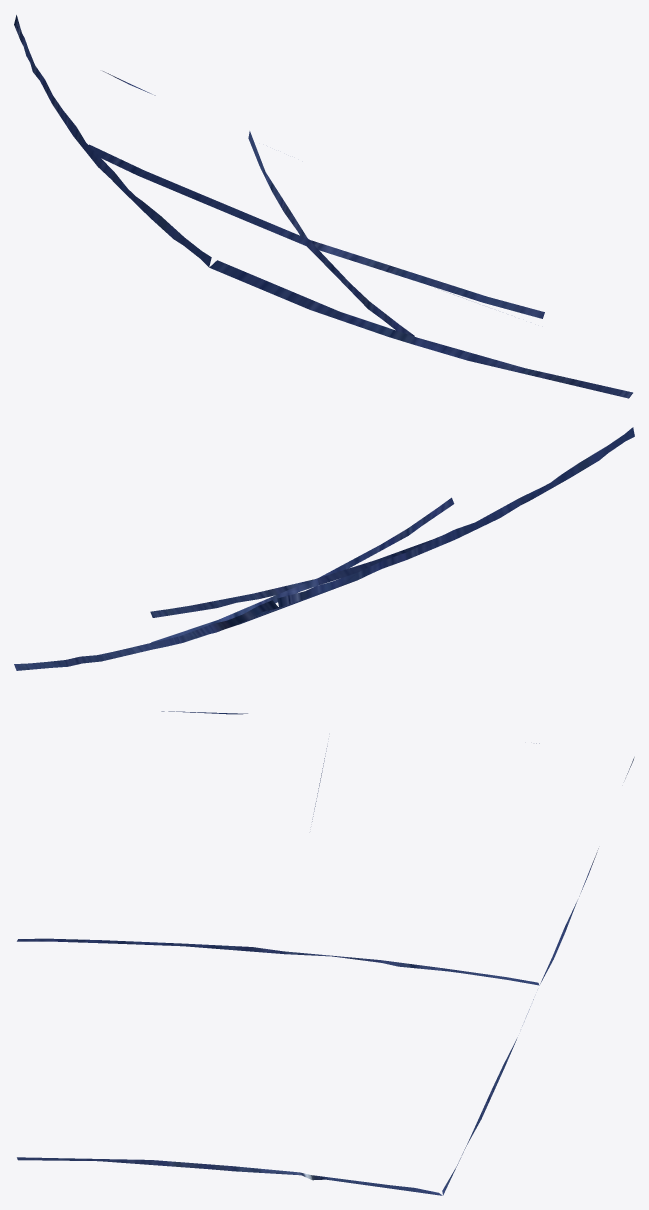
3 renders of one model, top to bottom at view 1: azimuth 30°, elevation 25°; view 2: azimuth 150°, elevation 25°; view 3: azimuth 270°, elevation 25°, orthographic. The views are drawn at different scales.
Size of the model in its own units: 1307901 by 620509 by 1375202.
1 material, 1 textured.
